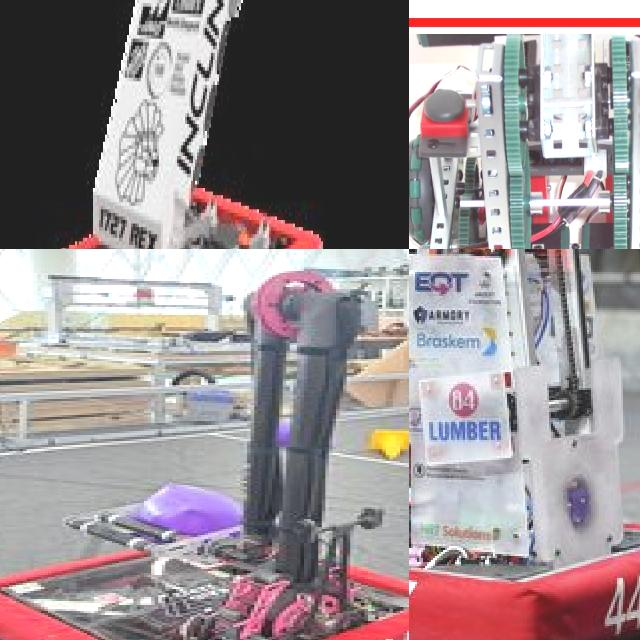FRC-Robots: (0, 249, 409, 640), (409, 249, 640, 640), (6, 0, 344, 249), (409, 4, 640, 249)
